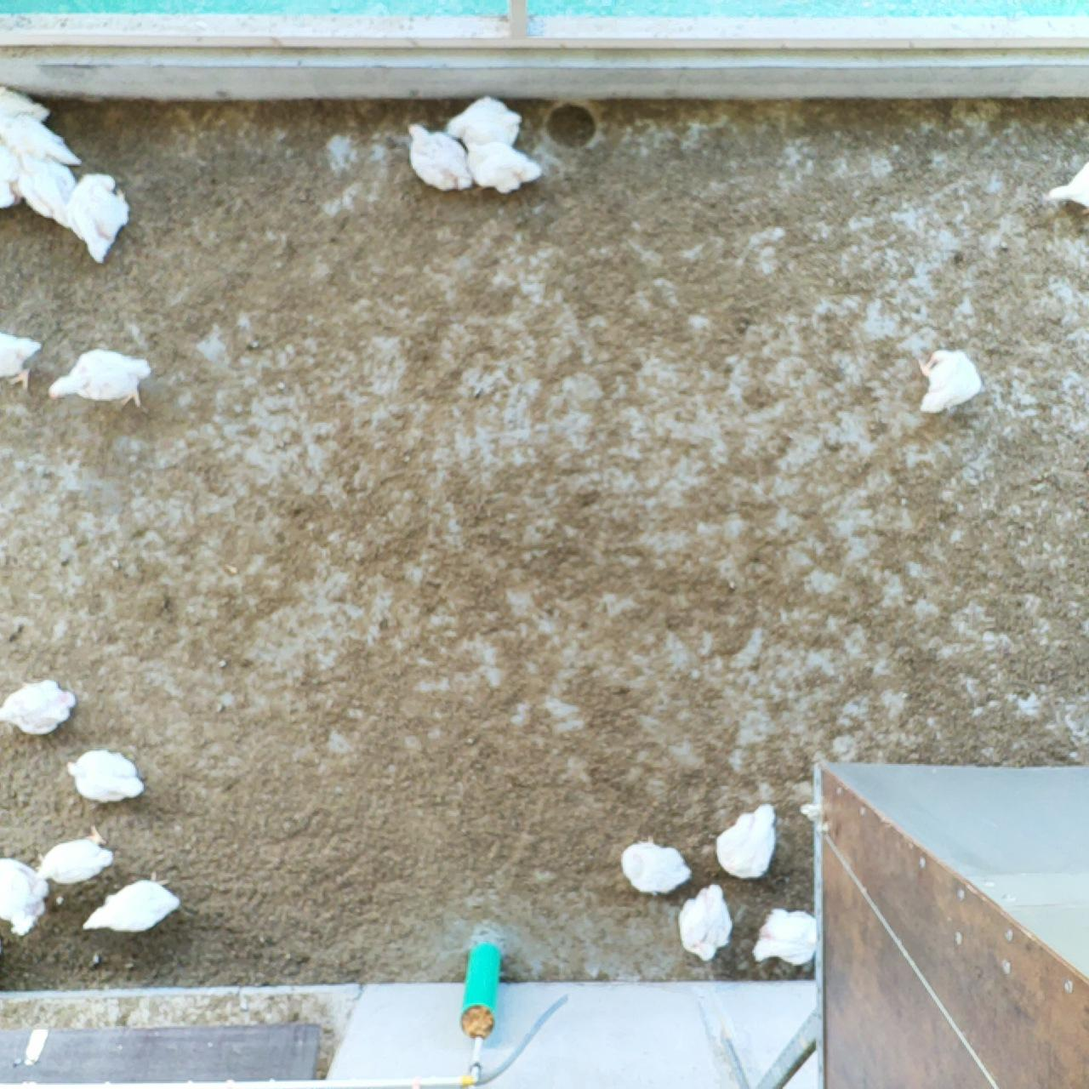chicken: (50, 347, 152, 414), (82, 873, 181, 937), (64, 169, 127, 265), (710, 804, 781, 881), (31, 821, 116, 885), (914, 349, 991, 418), (15, 146, 76, 231), (0, 674, 77, 738), (458, 137, 544, 194), (403, 122, 474, 189), (0, 109, 82, 165), (622, 839, 694, 902), (63, 750, 145, 805), (444, 97, 523, 154), (752, 903, 820, 969), (678, 882, 733, 962), (0, 853, 47, 939), (1041, 157, 1089, 215), (0, 324, 37, 390), (0, 85, 49, 132), (0, 144, 21, 214)
